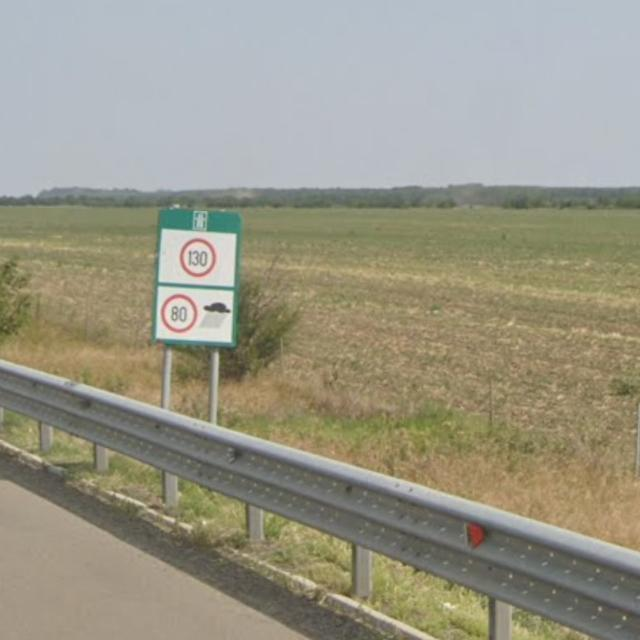forb_speed_over_80: (161, 293, 198, 334)
